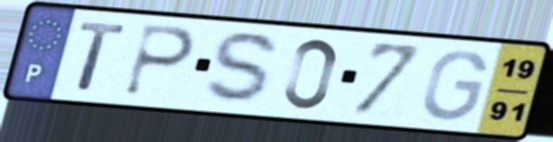0: (283, 36, 340, 111)
7: (353, 38, 429, 119)
G: (420, 47, 491, 124)
P: (120, 21, 200, 100)
S: (200, 28, 285, 108)
T: (74, 18, 130, 94)
